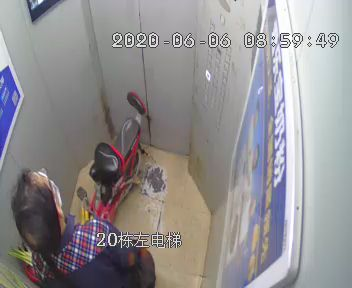Electric-bicycle: (67, 90, 147, 245)
